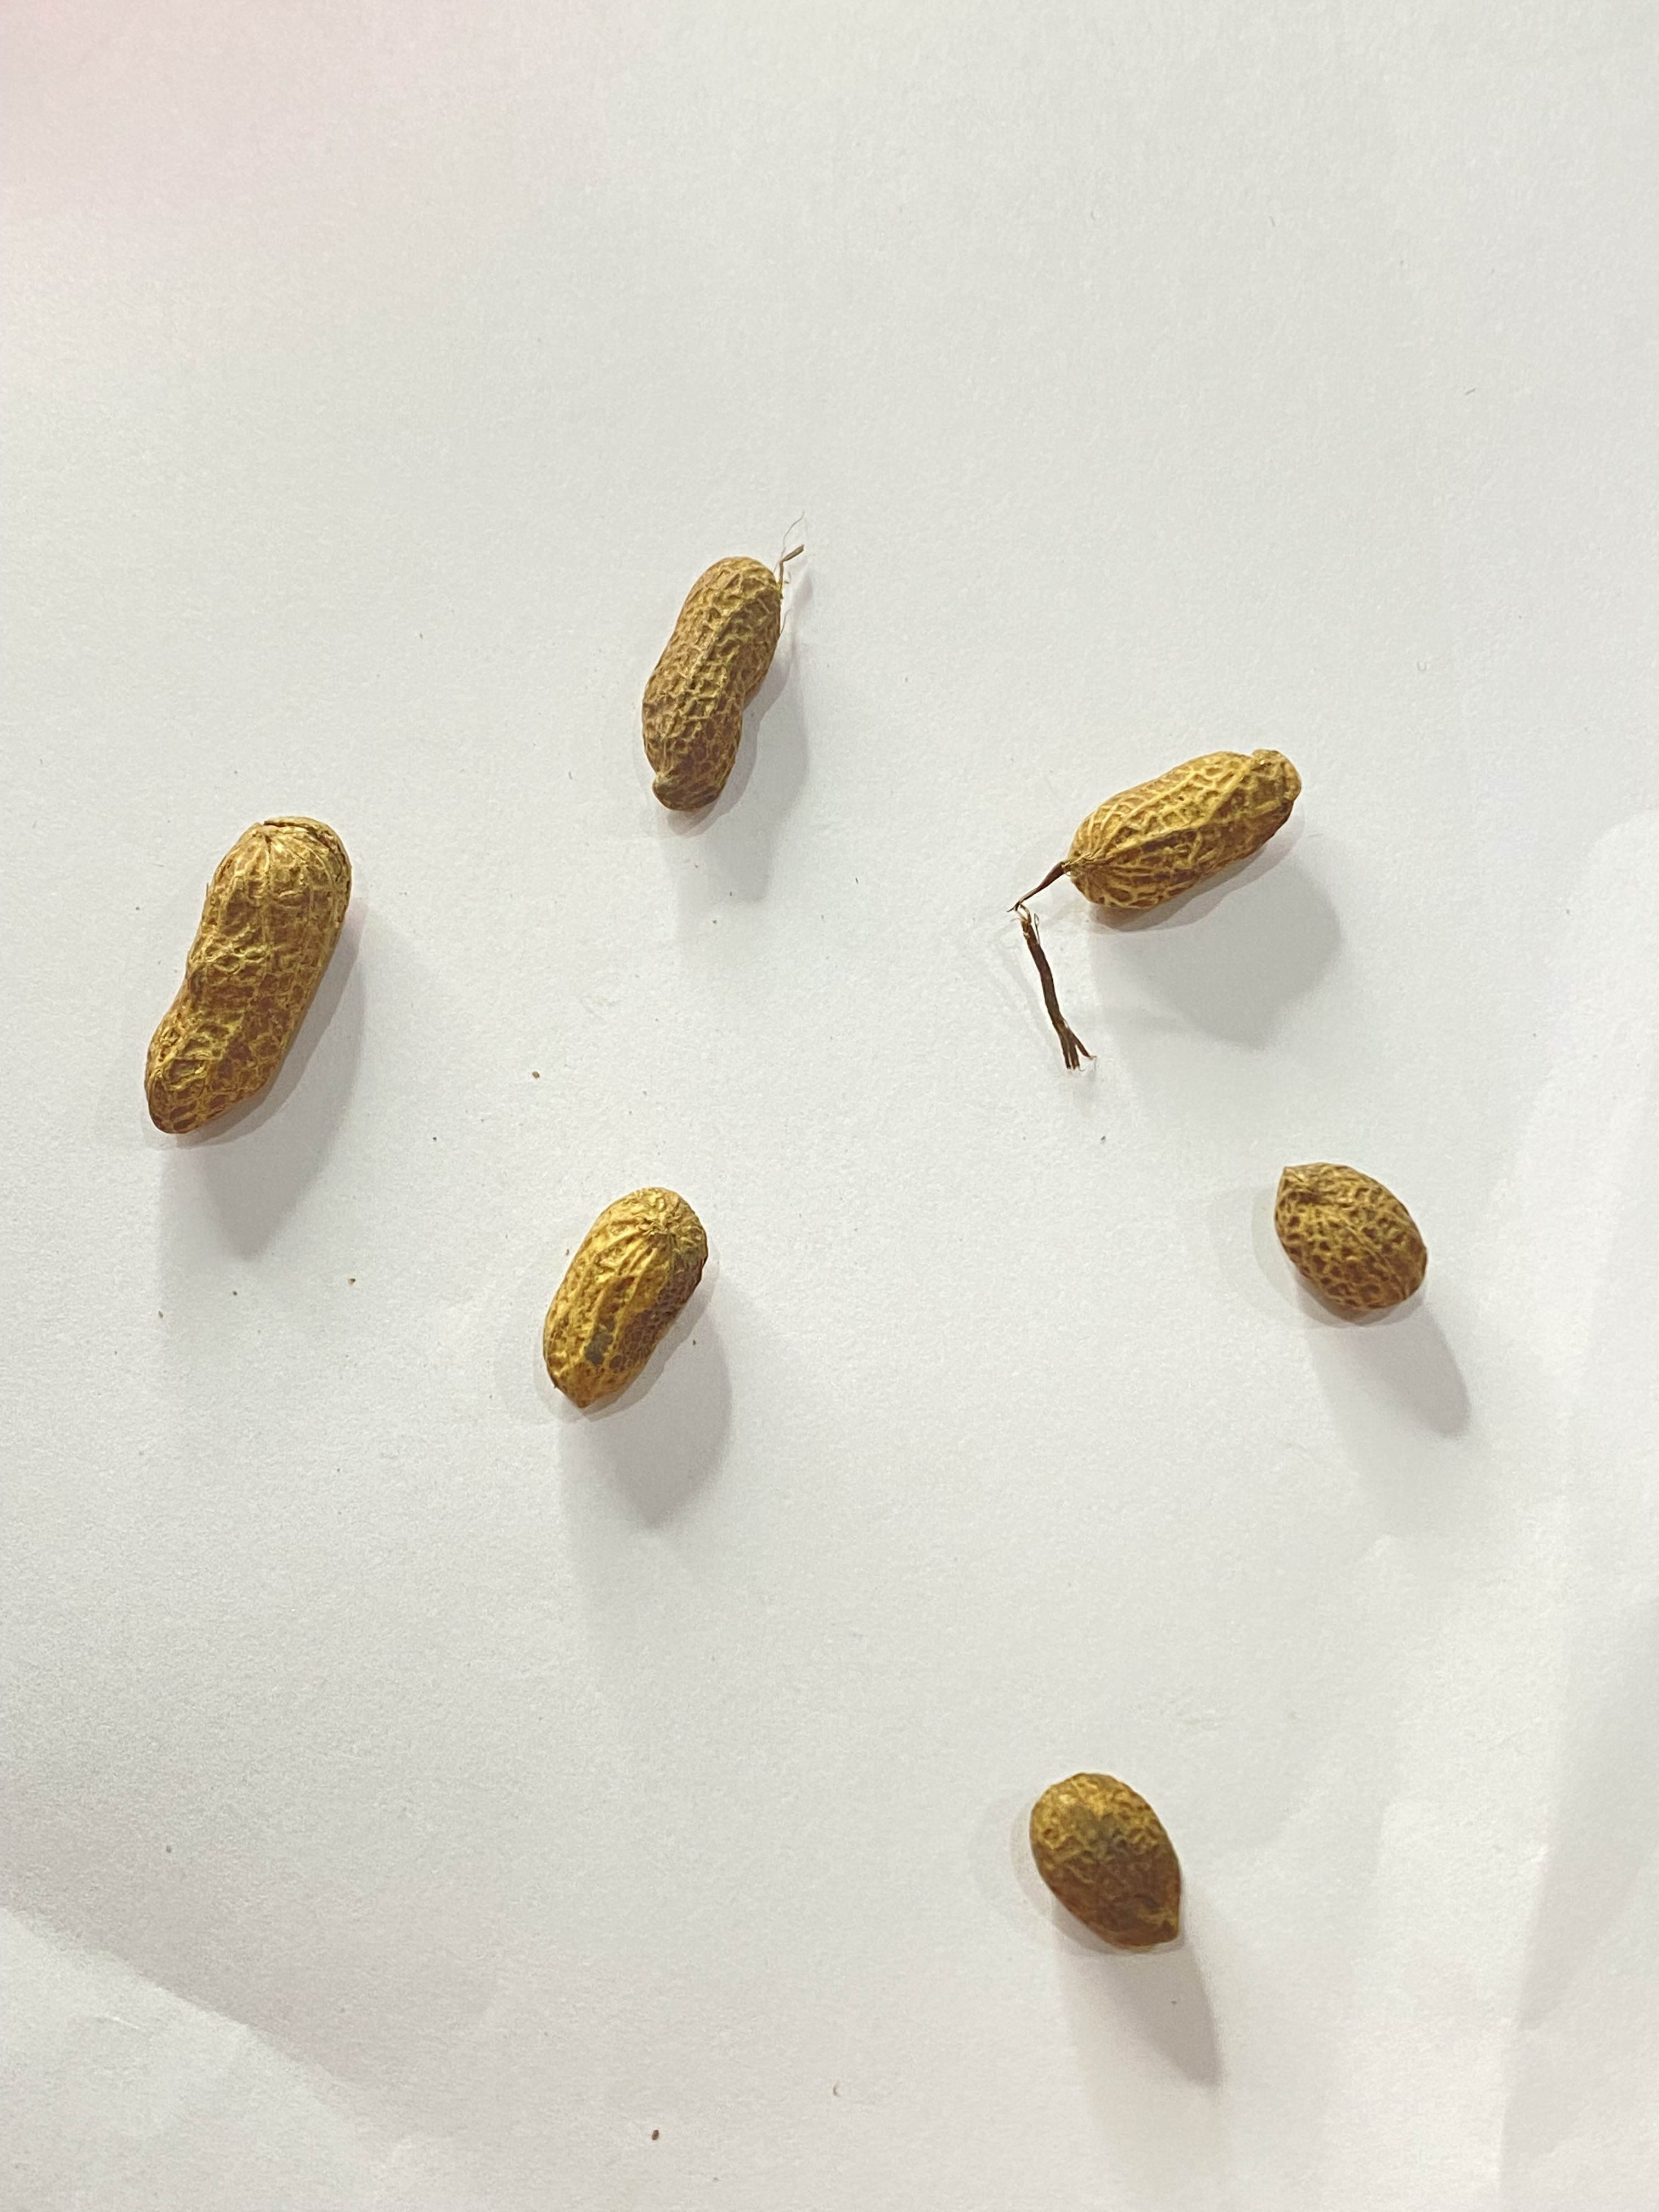kacang1: (1171, 1144, 1551, 1350), (1009, 1747, 1211, 1956)
kacang2: (477, 1163, 796, 1421), (1072, 719, 1394, 932), (633, 503, 824, 829)
kacang3: (84, 780, 406, 1158)
